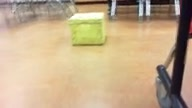cube: (68, 13, 105, 46)
